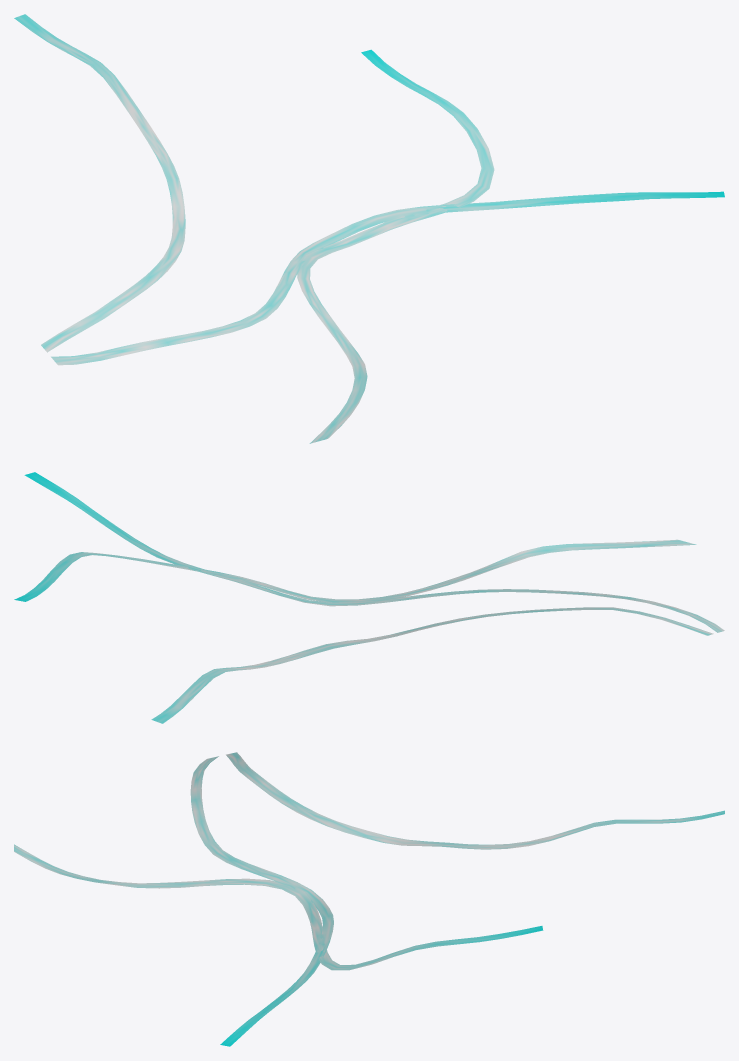
3 renders of one model, top to bottom at view 1: azimuth 30°, elevation 25°; view 2: azimuth 150°, elevation 25°; view 3: azimuth 270°, elevation 25°, orthographic. The views are drawn at different scales.
Visible parts, largest first — view 1: SpaceCenter_Long3_GenerateRoad_Sand_TireTracks_Width_Mesh_x9; view 2: SpaceCenter_Long3_GenerateRoad_Sand_TireTracks_Width_Mesh_x9; view 3: SpaceCenter_Long3_GenerateRoad_Sand_TireTracks_Width_Mesh_x9.
Boxes of the visible parts, <box> form: SpaceCenter_Long3_GenerateRoad_Sand_TireTracks_Width_Mesh_x9: <box>14,14,724,443</box>; SpaceCenter_Long3_GenerateRoad_Sand_TireTracks_Width_Mesh_x9: <box>14,472,724,723</box>; SpaceCenter_Long3_GenerateRoad_Sand_TireTracks_Width_Mesh_x9: <box>14,752,724,1046</box>.
Bounding box in the file's own units: 2304 × 2194 × 301.
